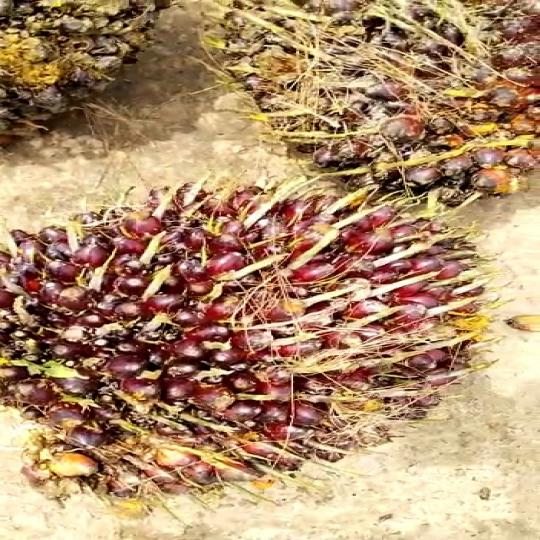kurang masak: (0, 174, 510, 504), (178, 0, 538, 201)
